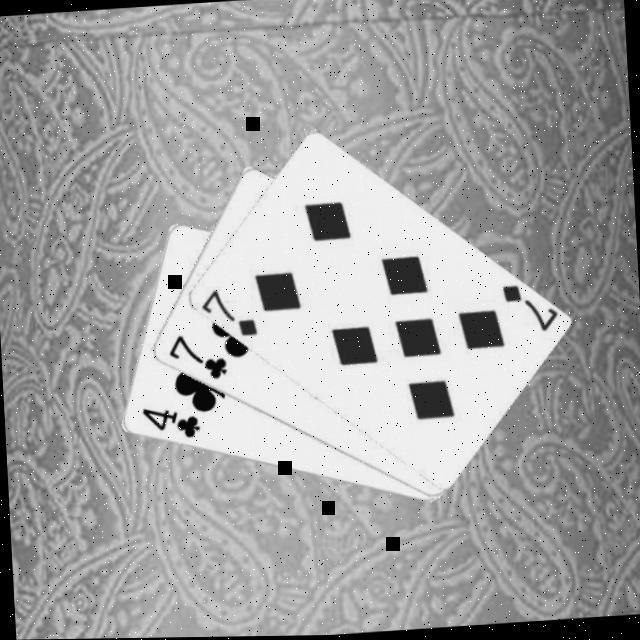4C: (137, 402, 202, 444)
7C: (163, 328, 230, 386)
7D: (197, 284, 260, 342), (496, 280, 558, 338)
